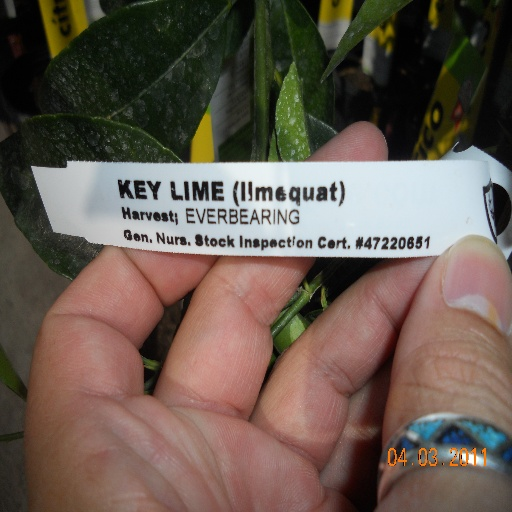hand: (1, 237, 512, 487)
